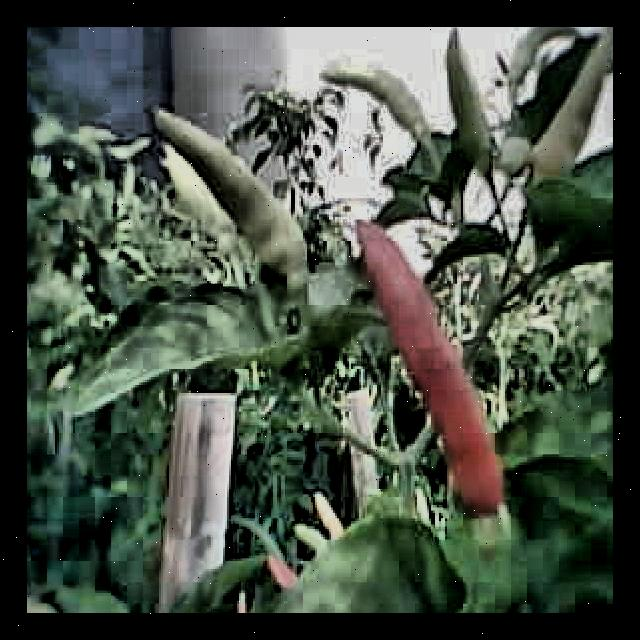Cabai: (352, 232, 519, 524)
